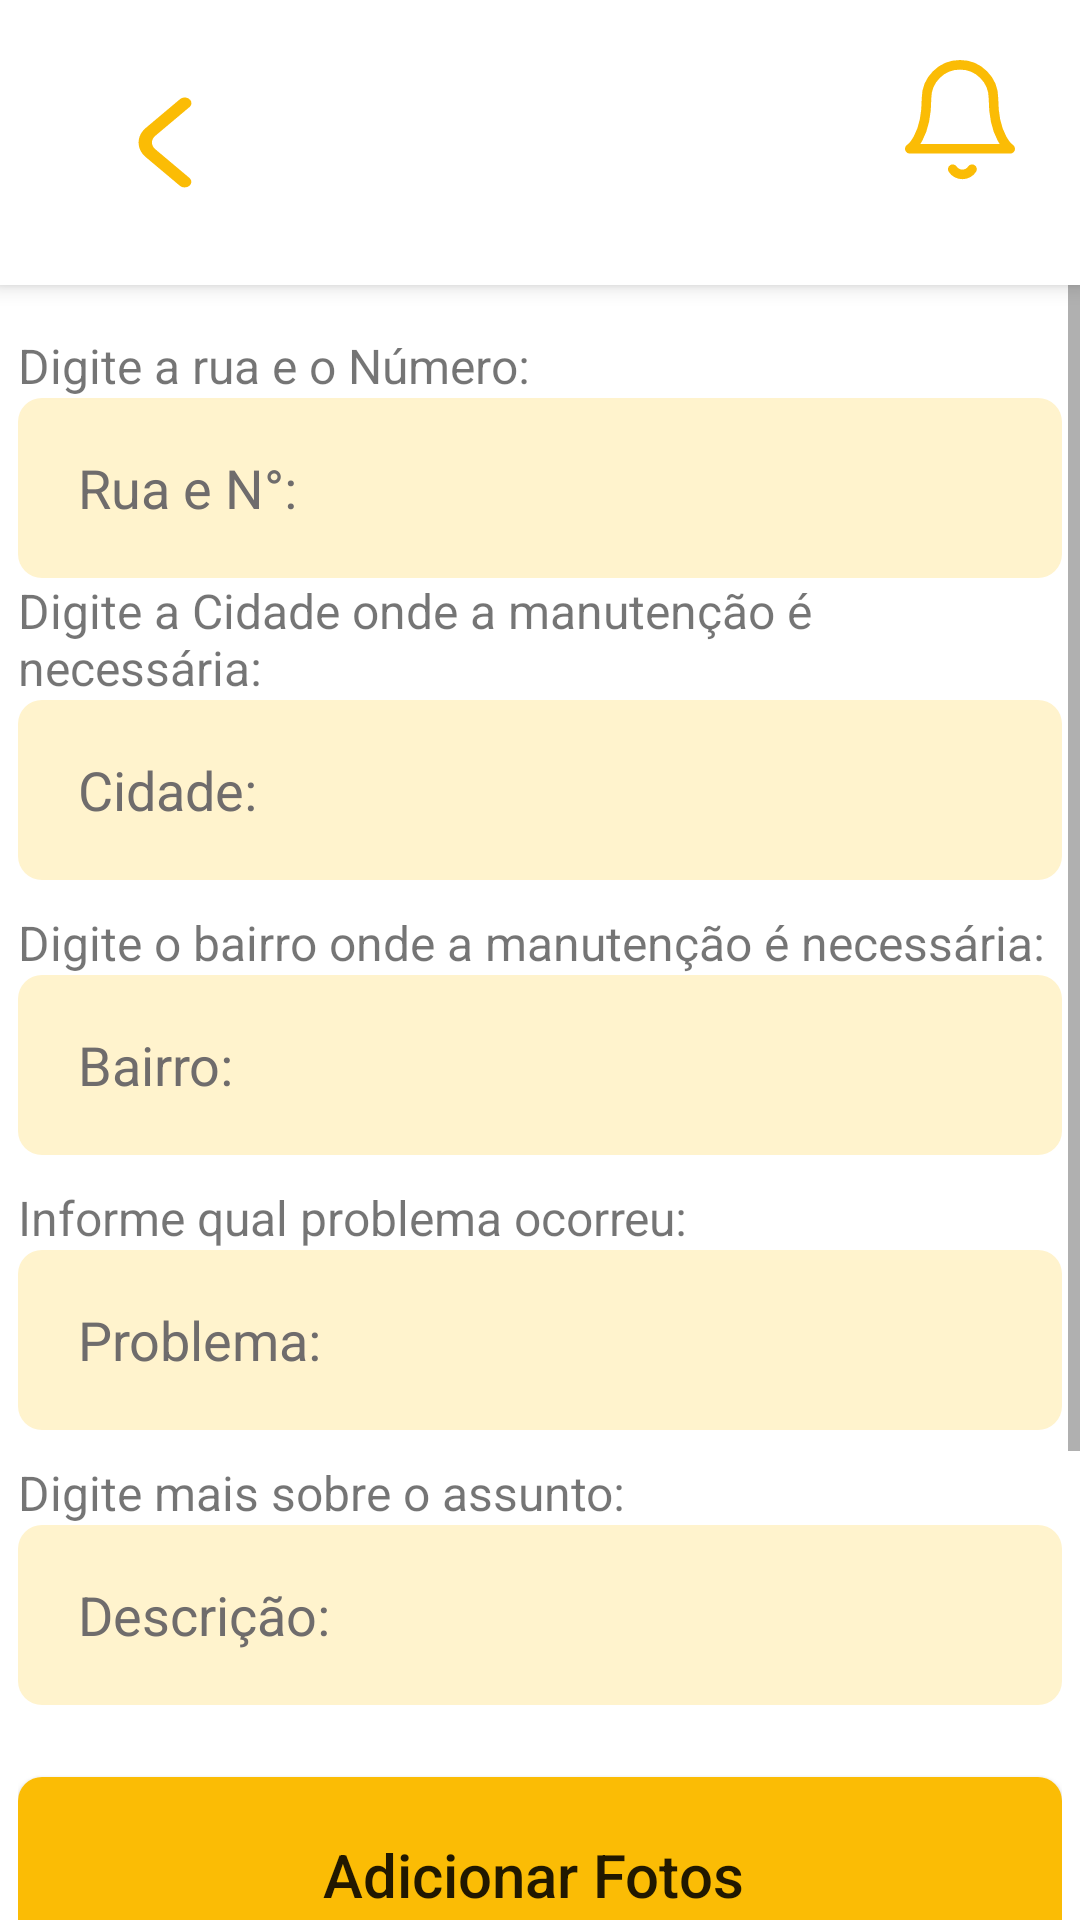

Screen size 1080x1920. Icon name, then its box in pixels as (x1, y1, x2, y2):
notification: (905, 60, 1015, 180)
retornar: (138, 97, 192, 188)
